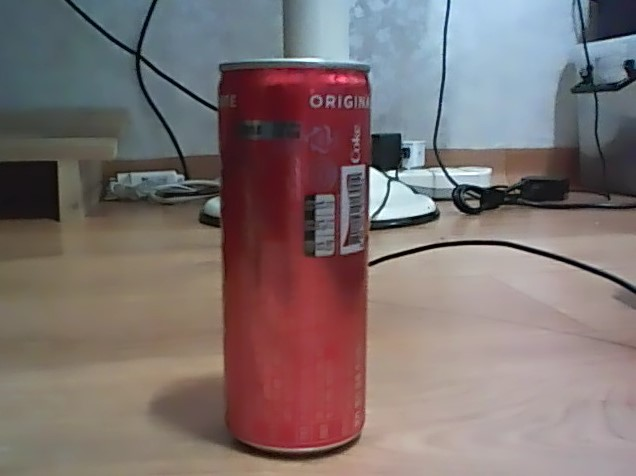Can: (211, 51, 377, 459)
